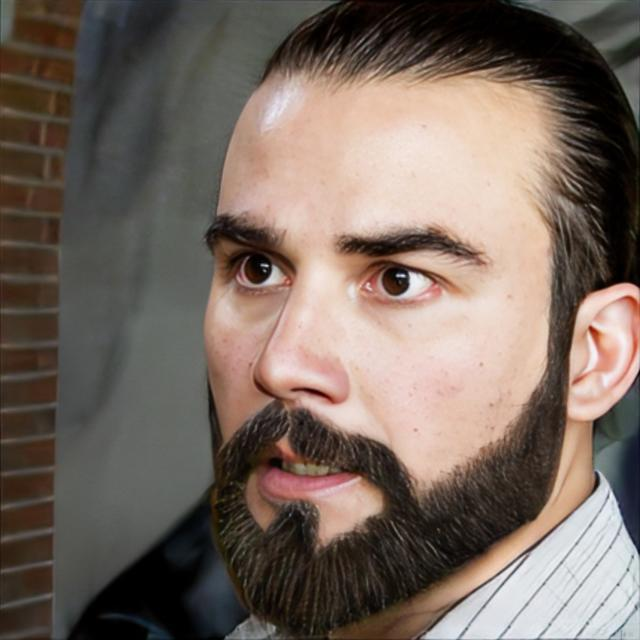fear: (198, 59, 568, 630)
